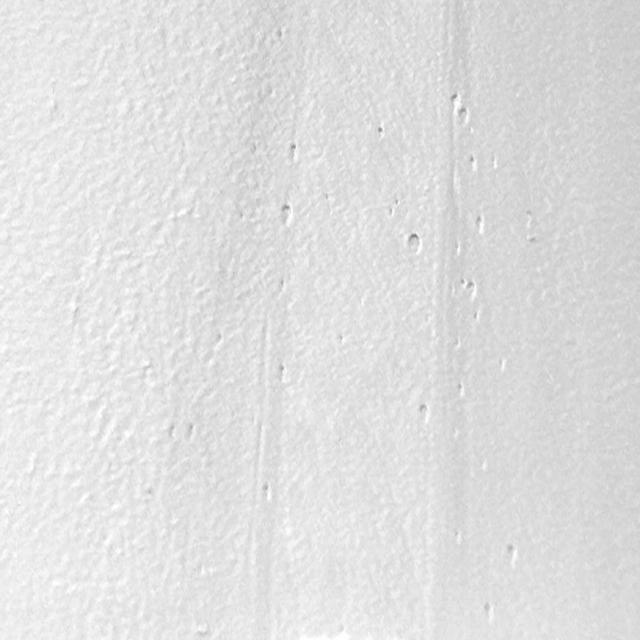pin holes: (457, 276, 479, 302), (501, 542, 521, 570), (276, 202, 294, 229), (405, 232, 423, 258), (415, 402, 434, 426), (480, 601, 498, 625), (258, 480, 275, 504), (284, 142, 301, 166), (454, 102, 470, 125), (449, 528, 465, 550), (276, 364, 292, 385), (212, 328, 228, 348), (194, 624, 213, 639), (474, 215, 487, 236), (144, 482, 160, 499), (186, 420, 199, 440), (467, 154, 479, 174), (448, 93, 461, 110), (384, 205, 397, 222), (166, 422, 179, 439), (454, 382, 466, 398), (376, 124, 388, 139), (275, 27, 287, 42), (452, 240, 461, 260), (488, 155, 499, 171), (473, 308, 484, 324), (526, 234, 539, 247)
